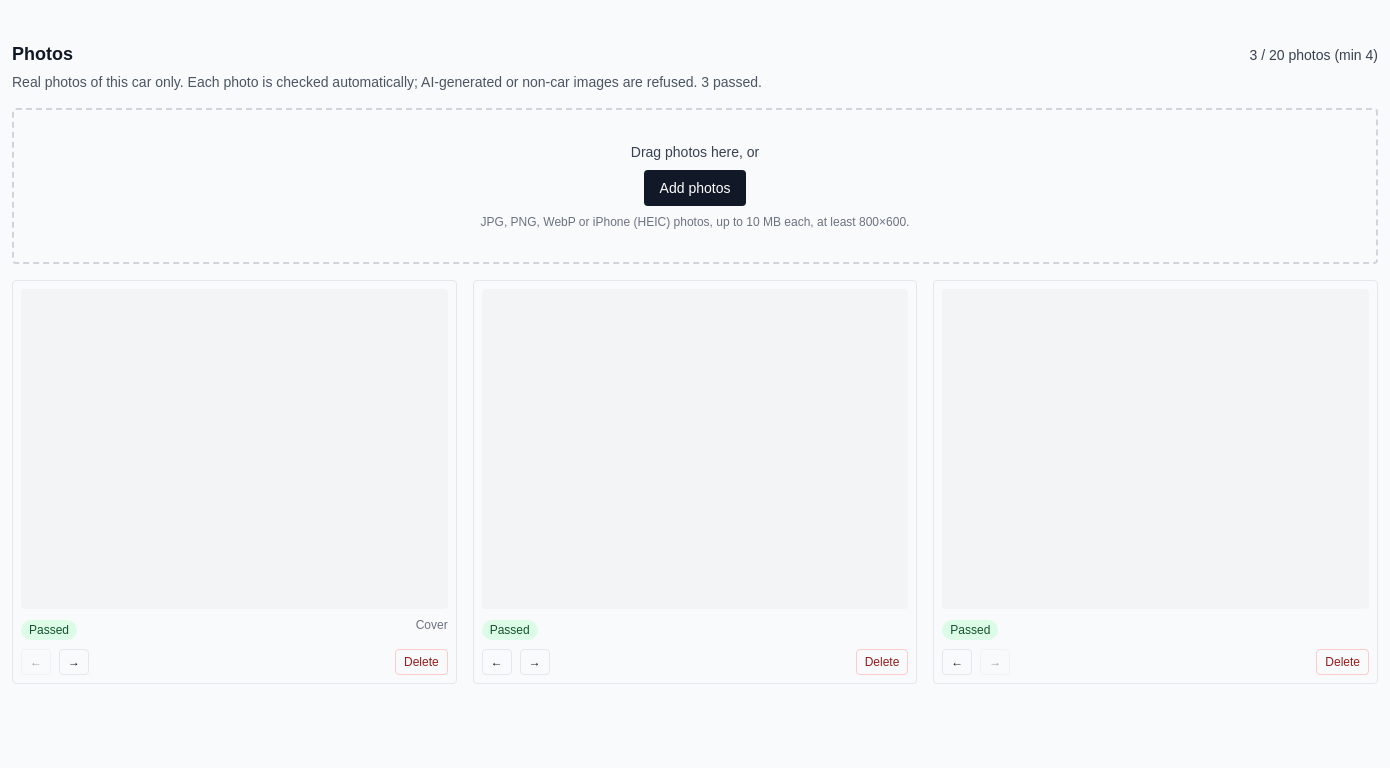
Scenario: PhotoUploader › reorders with the move buttons and deletes after confirmation
Click the button named "Move photo 3 earlier".
click(957, 662)  # box [942,649,972,675]
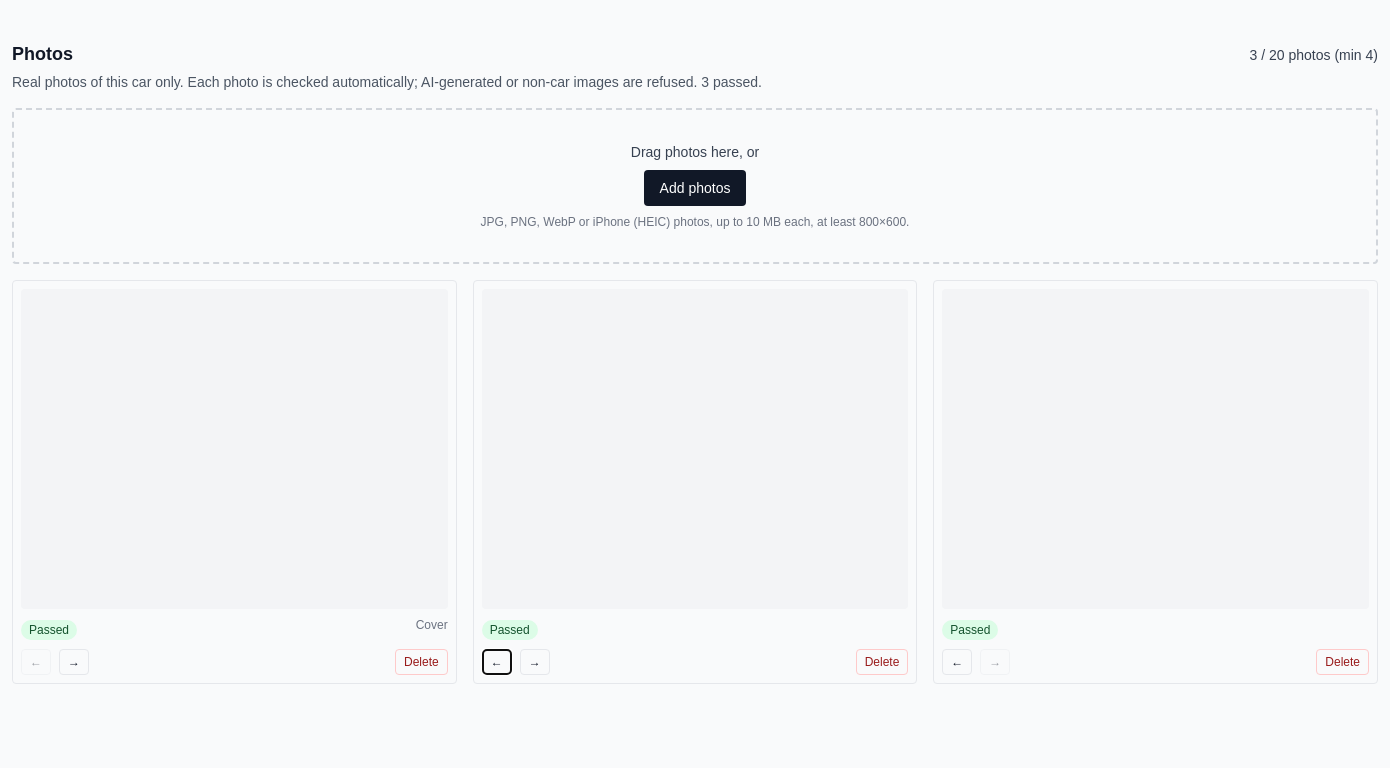
Click the button with aria-label "Delete photo 1".
click(421, 662)  # box [395,649,448,675]
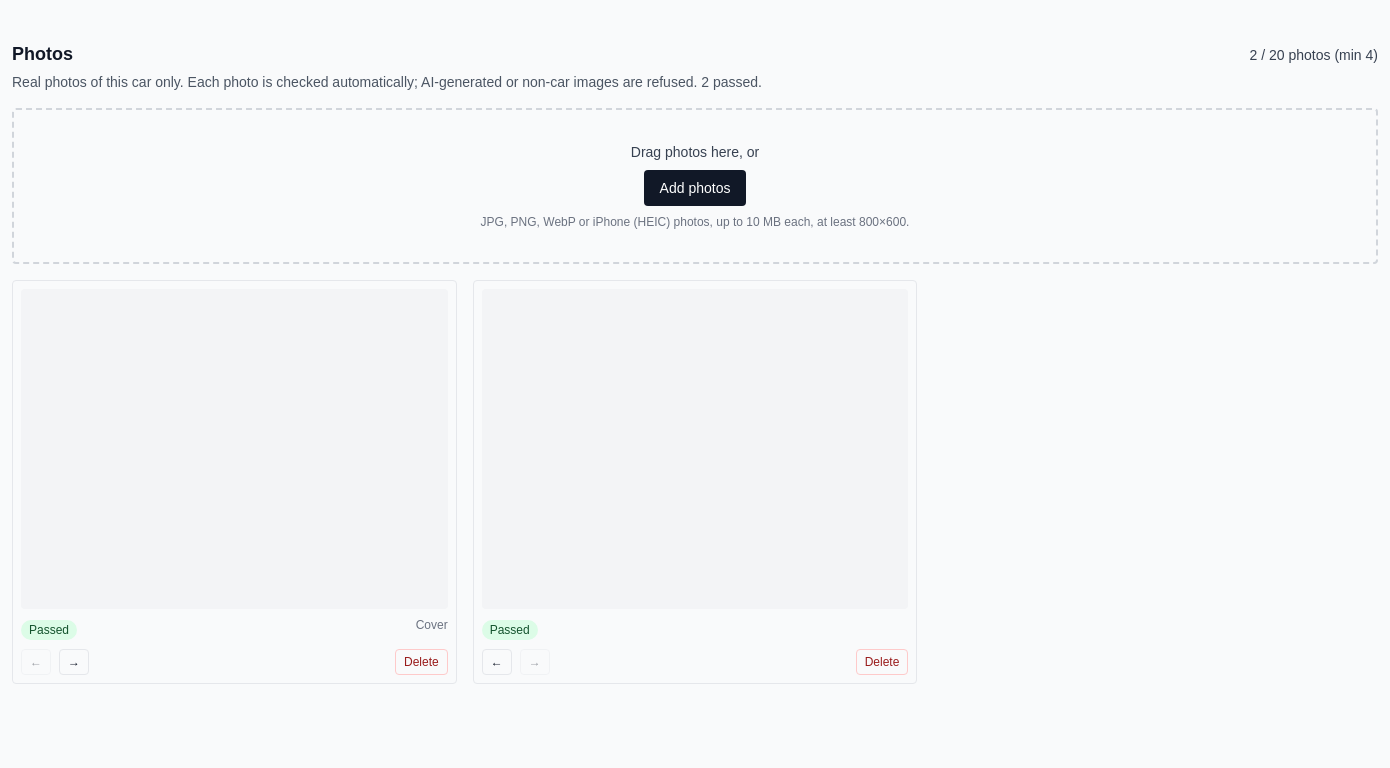
Expected: the text "2 / 20 photos (min 4)" is shown, [1250,45,1378,65]
